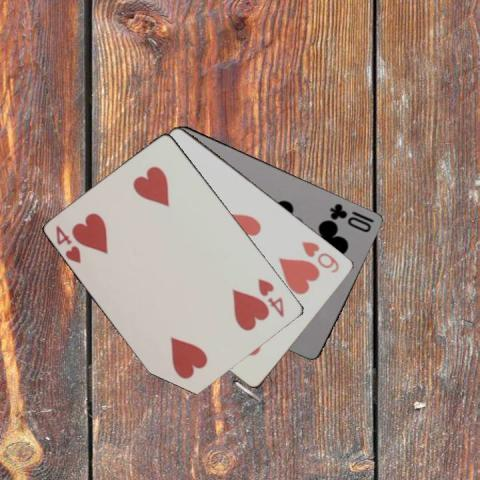10c: (327, 200, 376, 234)
4h: (255, 276, 286, 319), (53, 222, 83, 265)
6h: (299, 238, 341, 275)
